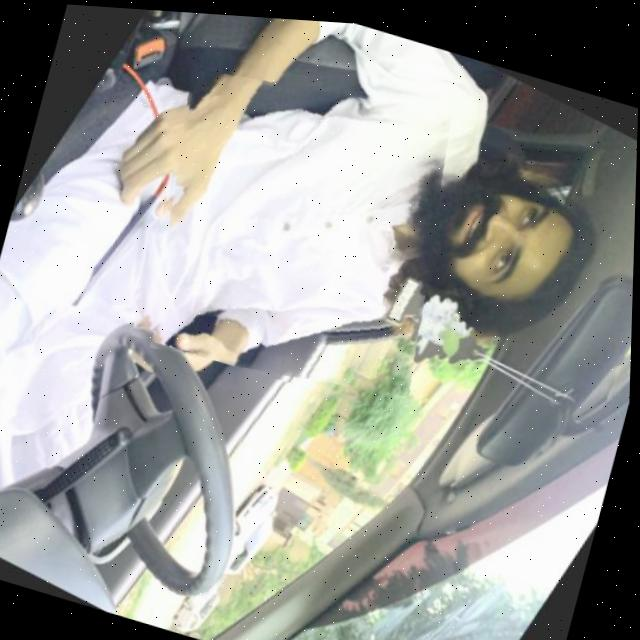seatbelt: (128, 40, 473, 412)
